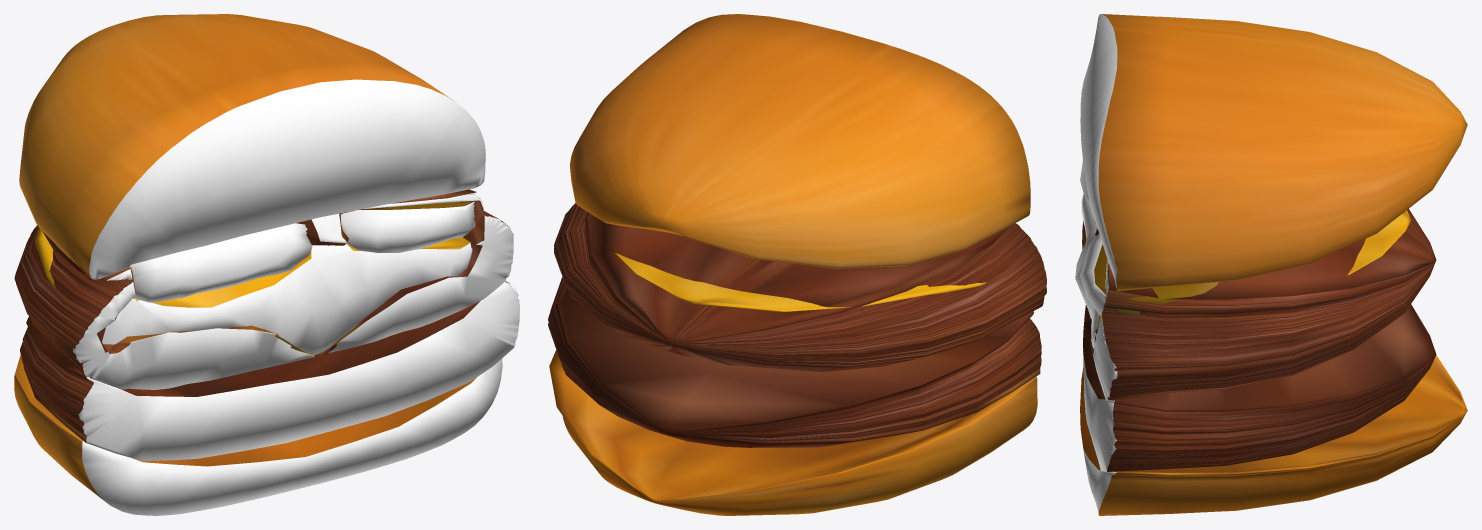
Rendered from plant-based-burger-doppio.glb.
3 renders of one model, left to right at view 1: azimuth 30°, elevation 25°; view 2: azimuth 150°, elevation 25°; view 3: azimuth 270°, elevation 25°, orthographic. The views are drawn at different scales.
Visible parts, largest first — view 1: ingredient_00_top_bun_solid.002, ingredient_04_lower_plant_patty_solid, ingredient_03_top_plant_patty_solid, ingredient_05_bottom_bun_solid, ingredient_02_cheddar_solid, ingredient_01_pickles_solid.002; view 2: ingredient_00_top_bun_solid.002, ingredient_03_top_plant_patty_solid, ingredient_04_lower_plant_patty_solid, ingredient_05_bottom_bun_solid, ingredient_02_cheddar_solid; view 3: ingredient_00_top_bun_solid.002, ingredient_03_top_plant_patty_solid, ingredient_04_lower_plant_patty_solid, ingredient_05_bottom_bun_solid, ingredient_01_pickles_solid.002, ingredient_02_cheddar_solid.
Part boxes in pixels (x1,y1,x2,y2): ingredient_00_top_bun_solid.002: [19, 14, 485, 279]; ingredient_04_lower_plant_patty_solid: [20, 281, 519, 460]; ingredient_03_top_plant_patty_solid: [14, 189, 513, 389]; ingredient_05_bottom_bun_solid: [14, 354, 502, 515]; ingredient_02_cheddar_solid: [35, 227, 472, 354]; ingredient_01_pickles_solid.002: [128, 201, 475, 302]; ingredient_00_top_bun_solid.002: [569, 14, 1030, 268]; ingredient_03_top_plant_patty_solid: [554, 203, 1046, 371]; ingredient_04_lower_plant_patty_solid: [548, 277, 1041, 447]; ingredient_05_bottom_bun_solid: [549, 350, 1037, 515]; ingredient_02_cheddar_solid: [614, 253, 986, 311]; ingredient_00_top_bun_solid.002: [1080, 14, 1467, 290]; ingredient_03_top_plant_patty_solid: [1082, 208, 1436, 399]; ingredient_04_lower_plant_patty_solid: [1083, 304, 1436, 471]; ingredient_05_bottom_bun_solid: [1080, 355, 1467, 515]; ingredient_01_pickles_solid.002: [1080, 160, 1218, 316]; ingredient_02_cheddar_solid: [1075, 194, 1411, 348].
Bounding box in the file's own units: 1.66 × 1.43 × 1.26.
